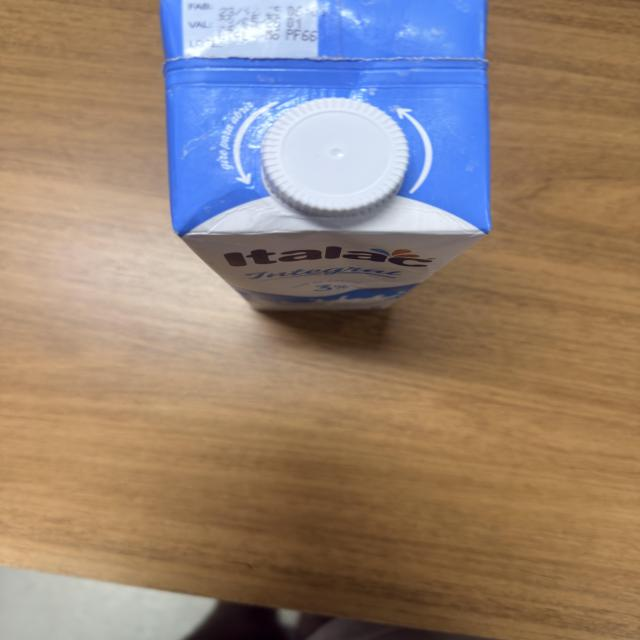Caixa de Leite: (164, 0, 497, 313)
